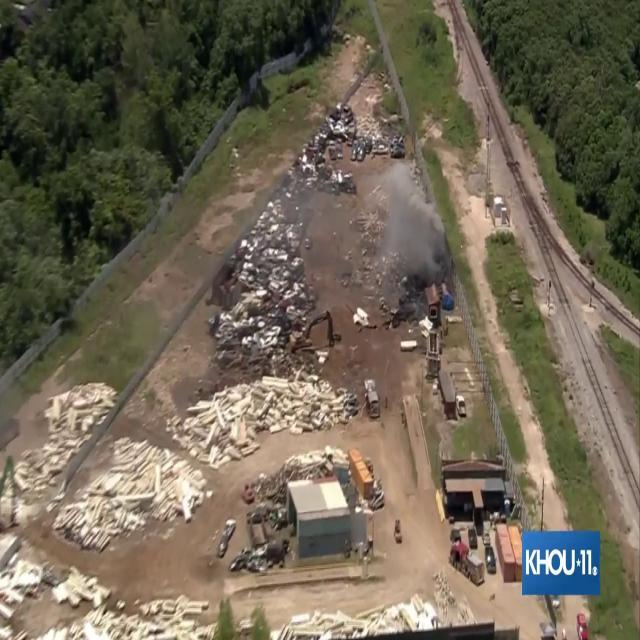Smoke: (377, 155, 445, 290)
